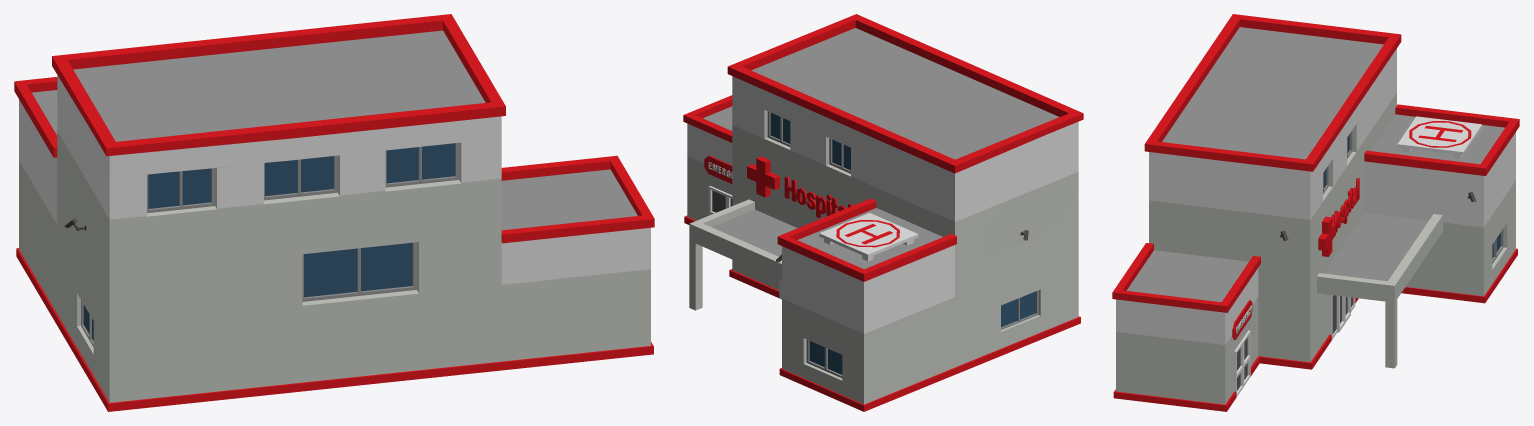
The model's file is Hospital.fbx.
3 views of the same model, side by side, from view 1: azimuth 30°, elevation 25°; view 2: azimuth 150°, elevation 25°; view 3: azimuth 270°, elevation 25° (orthographic). The views are drawn at different scales.
Visible parts, largest first — view 1: Hospital; view 2: Hospital; view 3: Hospital.
Part boxes in pixels (x1=…): Hospital: x1=14, y1=14, x2=654, y2=411; Hospital: x1=683, y1=14, x2=1083, y2=411; Hospital: x1=1112, y1=14, x2=1519, y2=411.
Bounding box in the file's own units: 5202 × 4648 × 2592.
